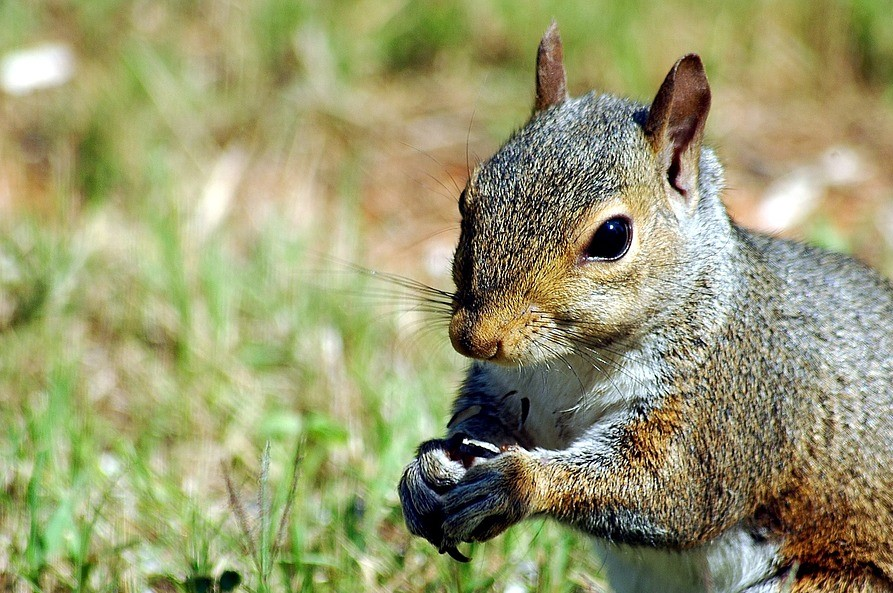squirrel: (397, 16, 893, 593)
